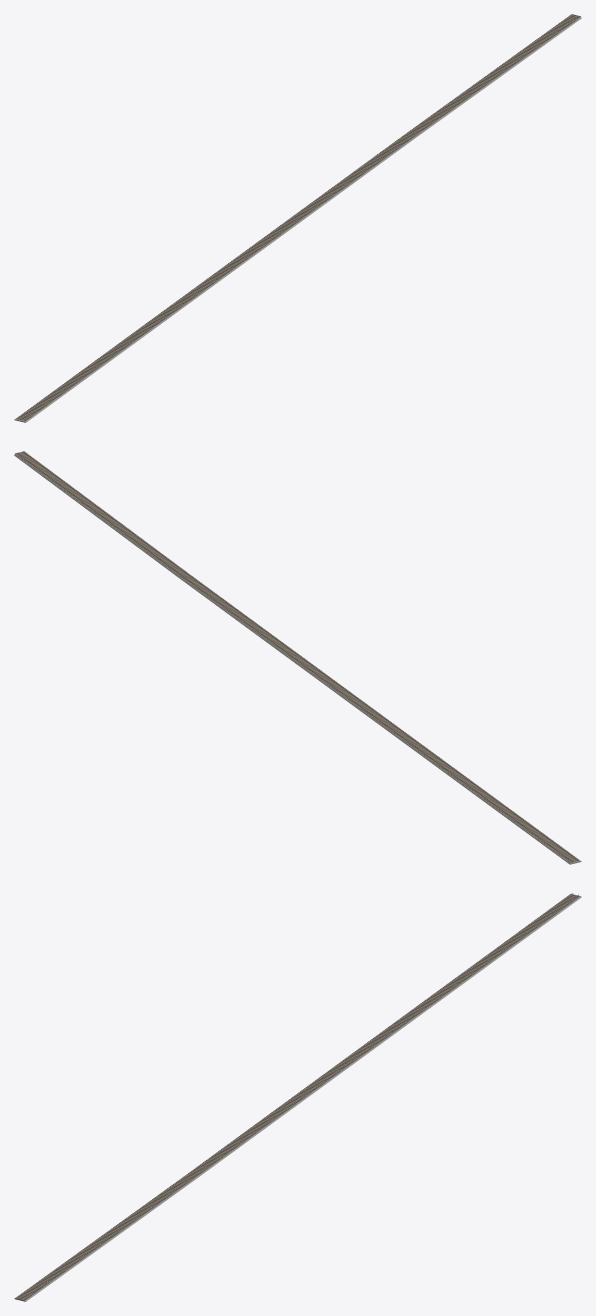
The model's file is rail_01215.glb.
3 views of the same model, one above another, from view 1: azimuth 90°, elevation 25°; view 2: azimuth 150°, elevation 25°; view 3: azimuth 270°, elevation 25° (orthographic).
Visible parts, largest first — view 1: Sleepers, Ballast, Rails; view 2: Sleepers, Ballast, Rails; view 3: Sleepers, Ballast, Rails.
Boxes of the visible parts, bbox=[...] form: Sleepers: bbox=[16, 14, 580, 420]; Ballast: bbox=[14, 15, 581, 422]; Rails: bbox=[17, 14, 578, 420]; Sleepers: bbox=[15, 451, 579, 862]; Ballast: bbox=[14, 452, 581, 864]; Rails: bbox=[17, 451, 578, 862]; Sleepers: bbox=[15, 894, 579, 1300]; Ballast: bbox=[14, 893, 581, 1301]; Rails: bbox=[17, 893, 578, 1299].
Bounding box in the file's own units: 211 × 0.48 × 124.
